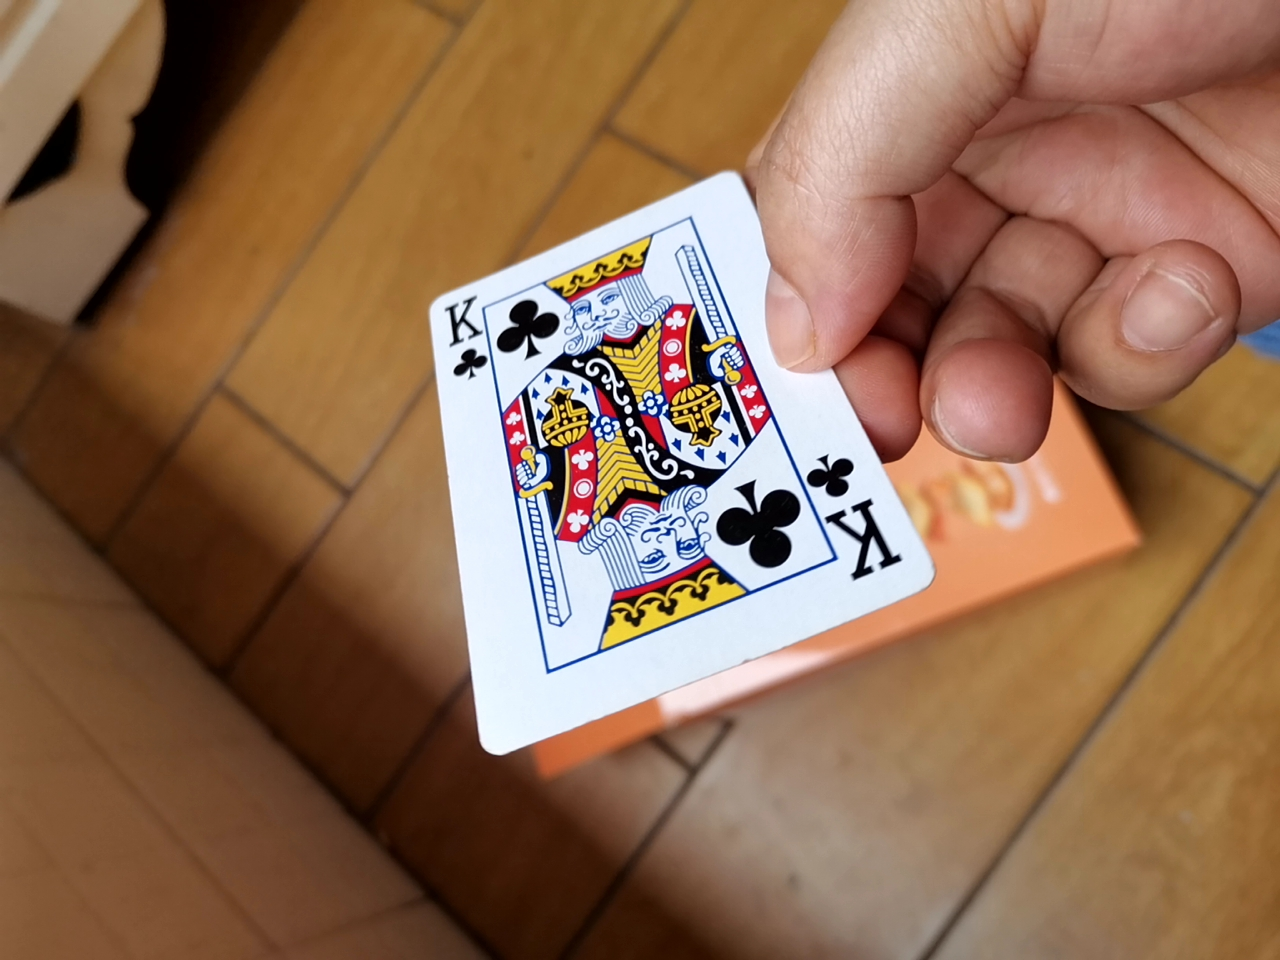mh k: (411, 171, 943, 785)
